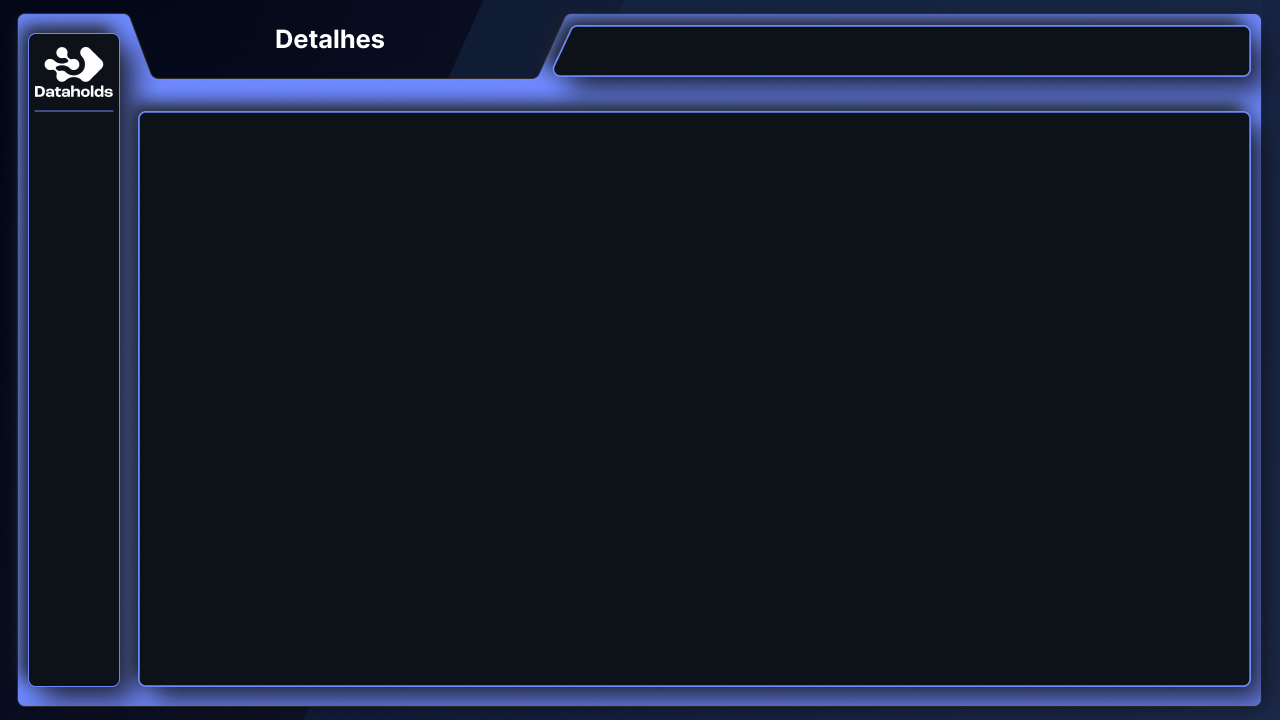

The page's visual inventory and layout, read from the dashboard file:
{"tool":"powerbi","page":{"name":"Detalhes","canvas":[1280,720],"ordinal":1},"visuals":[{"type":"tableEx","fields":{"Values":["fVendas.numero_nota","fVendas.descricao_cliente","fVendas.descricao_produto","fVendas.quantidade_vendida_produto","fVendas.valor_tabela_de_preco_do_produto","Medidas.% Margem média","fVendas.valor_unitario_produto","fVendas.Custo unitário","fVendas.valor_total","fVendas.custo_da_venda"]},"box":[142.8,120.6,1098.6,562.2],"z":0},{"type":"actionButton","title":"Voltar","box":[23.1,120.6,99.3,78.9],"z":1000}]}

Visuals, with their boxes in screenshot pixels (x1, y1, x2, y2), scaled from the page's 1280x720 canvas onto the 1280x720 screenshot:
tableEx - fVendas.numero_nota x fVendas.descricao_cliente: select_region(143, 121, 1241, 683)
"Voltar" actionButton: select_region(23, 121, 122, 200)
